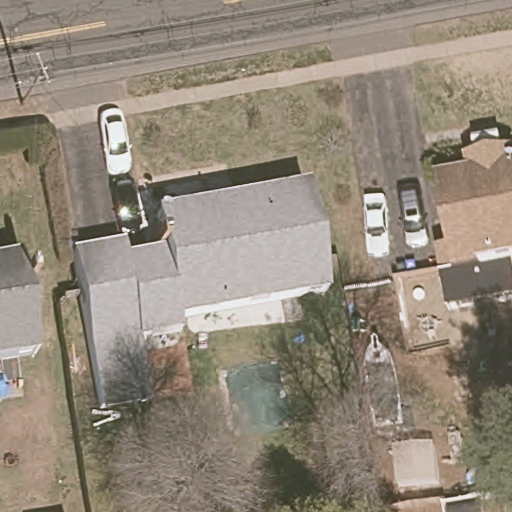DT: (19, 51, 51, 106)
